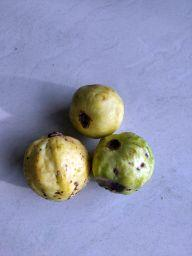guava: (17, 130, 91, 203), (94, 127, 157, 196), (70, 80, 127, 138)
